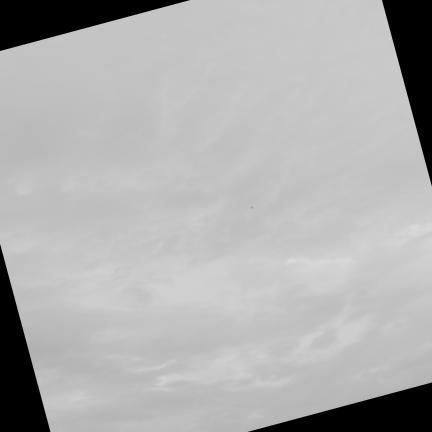Shahed: (249, 206, 253, 208)
